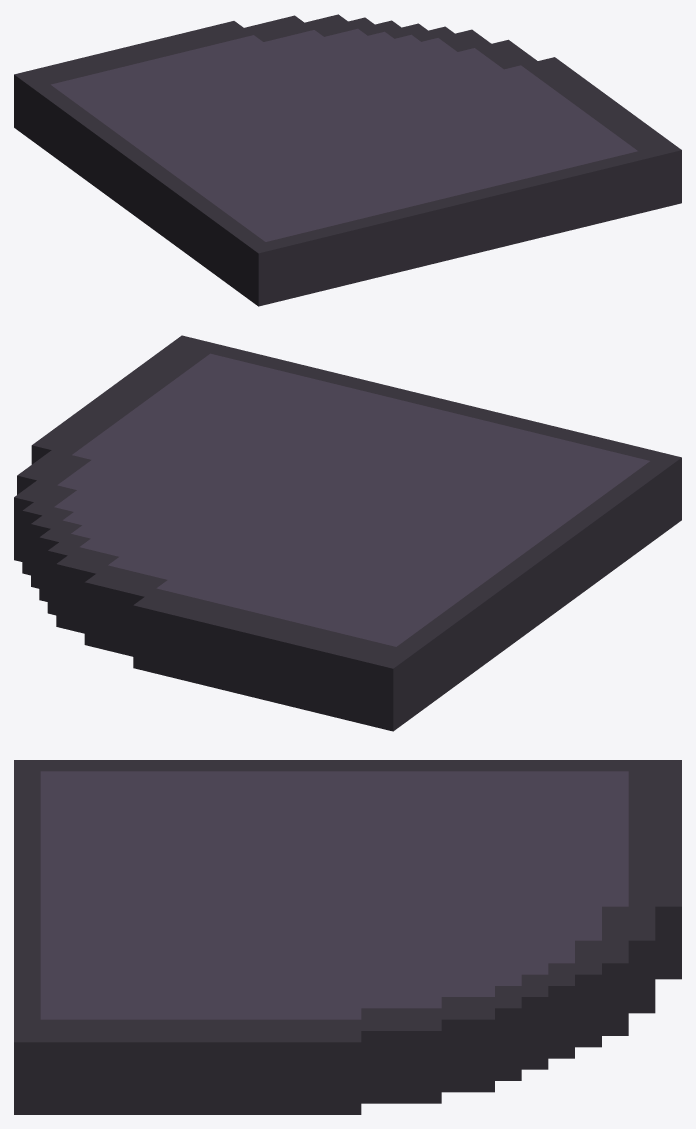
File: floor_curve1.glb
3 renders of one model, top to bottom at view 1: azimuth 30°, elevation 25°; view 2: azimuth 150°, elevation 25°; view 3: azimuth 270°, elevation 25°, orthographic. The views are drawn at different scales.
Parts seen in each view (by area): view 1: Untitled; view 2: Untitled; view 3: Untitled.
Boxes of the visible parts, <box> form: Untitled: <box>14,14,681,306</box>; Untitled: <box>14,335,681,731</box>; Untitled: <box>14,760,681,1114</box>.
Bounding box in the file's own units: 2.5 × 0.3 × 2.5.
Materials: 1 (1 with a texture image).
